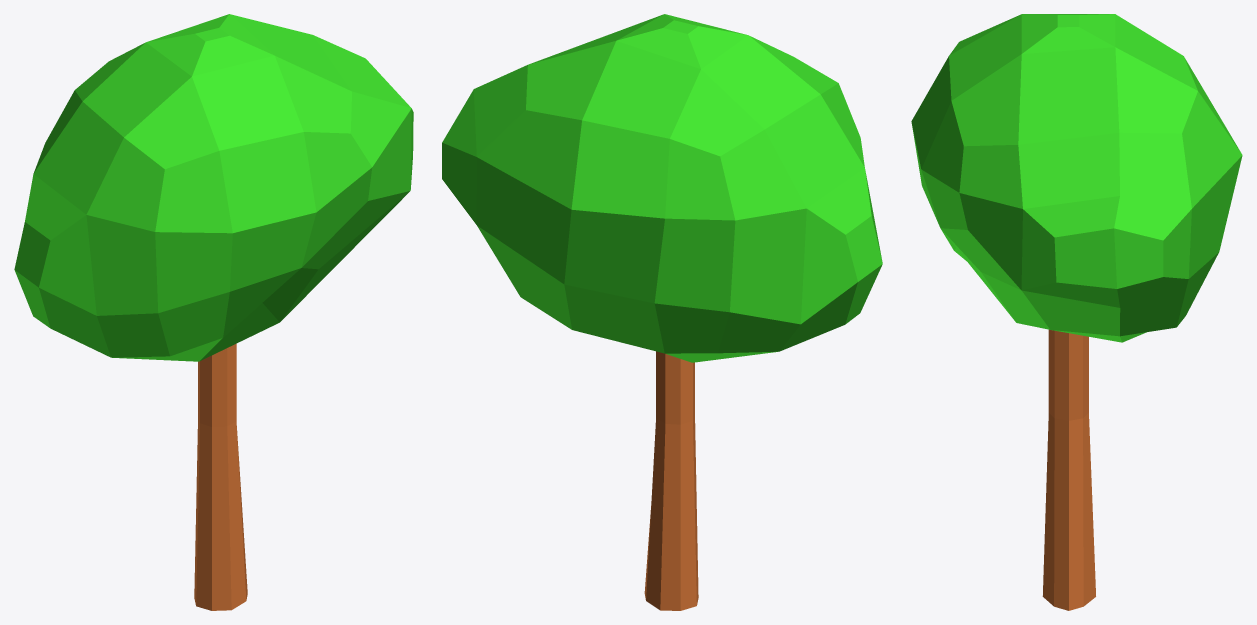
The model's file is trees_1.fbx.
3 views of the same model, side by side, from view 1: azimuth 30°, elevation 25°; view 2: azimuth 150°, elevation 25°; view 3: azimuth 270°, elevation 25° (orthographic).
Visible parts, largest first — view 1: 1; view 2: 1; view 3: 1.
Boxes of the visible parts, left/top/right/bottom form: 1: left=14, top=14, right=413, bottom=610; 1: left=442, top=14, right=882, bottom=610; 1: left=911, top=14, right=1242, bottom=610.
Bounding box in the file's own units: 3.77 × 5.28 × 2.77.
